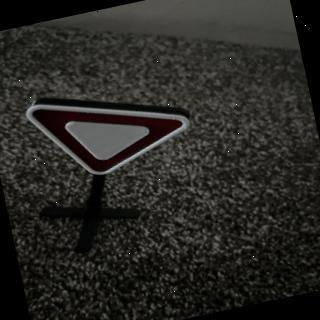sign_yield: (23, 70, 200, 192)
